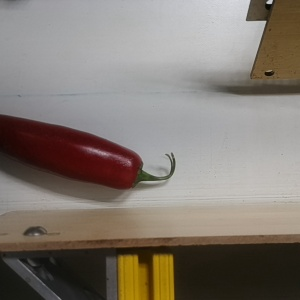Cut Point: (119, 146, 151, 190)
